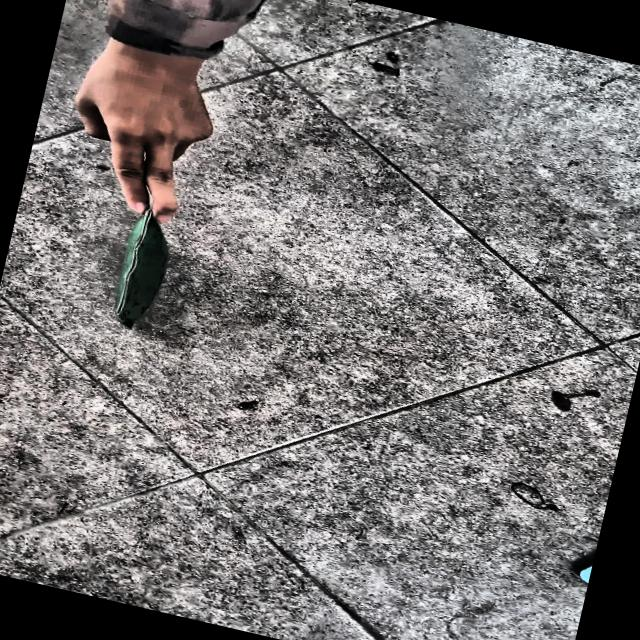payload: (115, 209, 166, 328)
